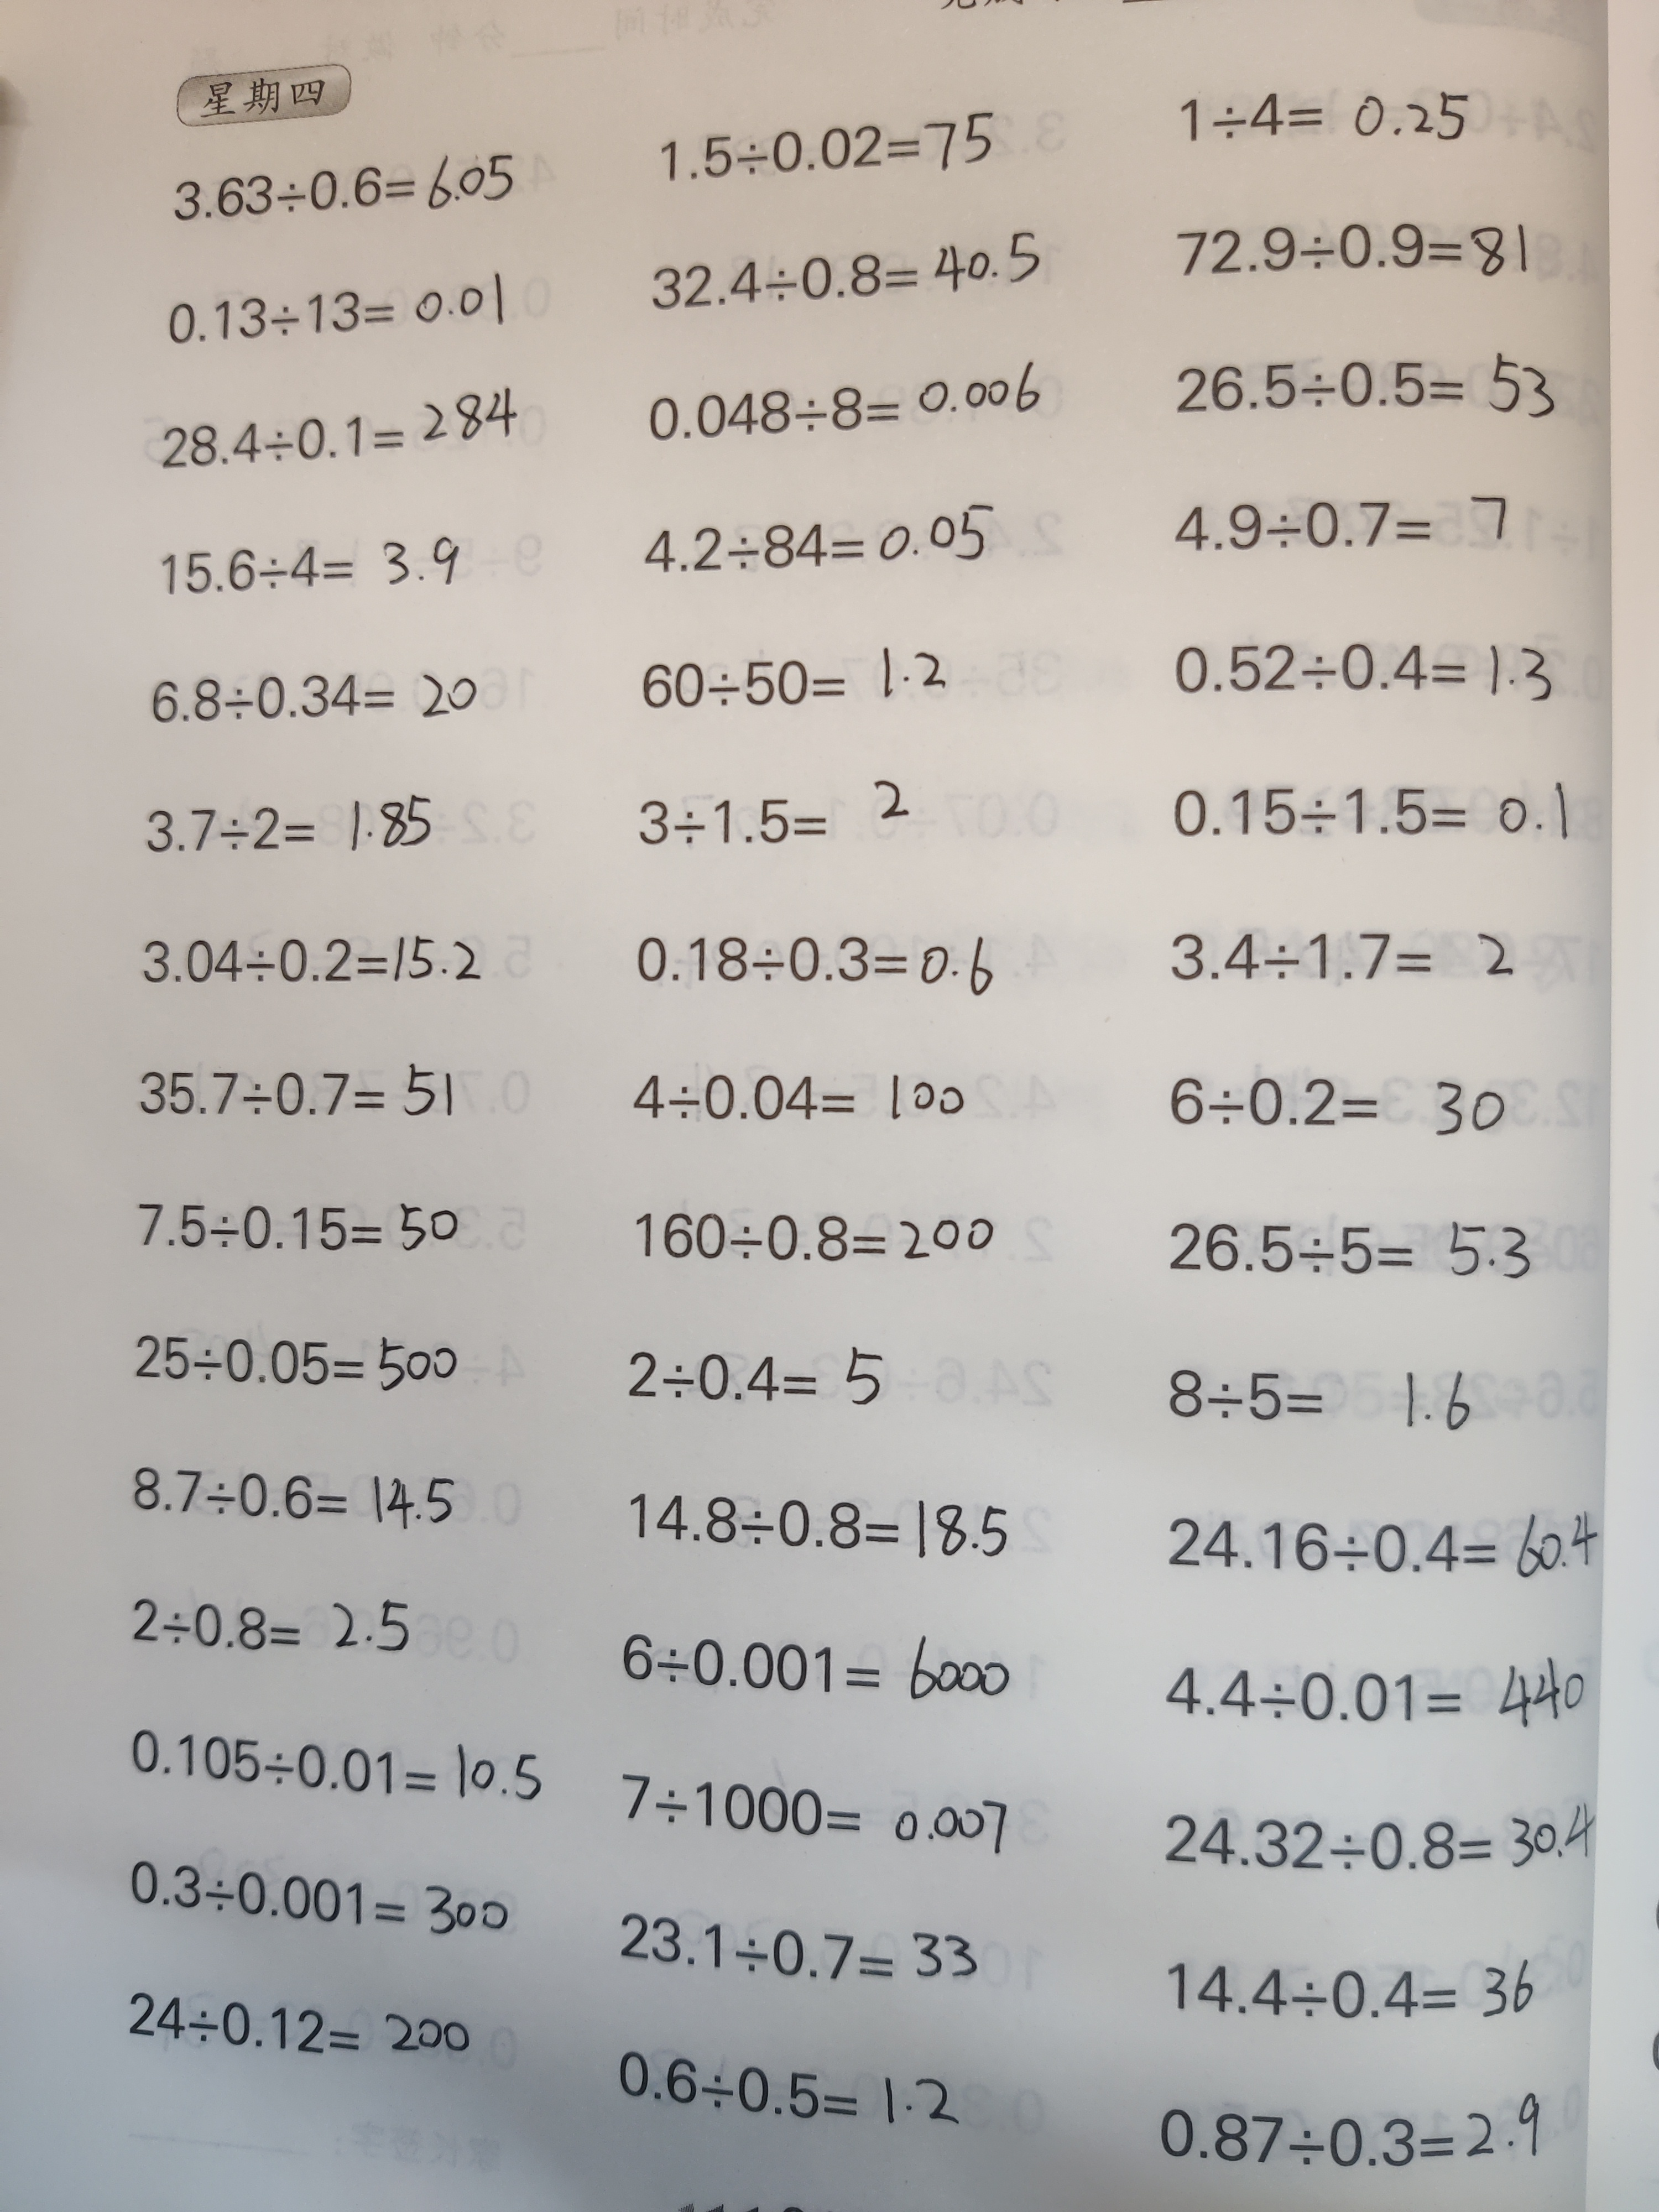equation: (1152, 1789, 1600, 1904), (603, 1763, 1019, 1881), (106, 1707, 556, 1813), (606, 1606, 1025, 1719), (615, 1468, 1023, 1581), (615, 1170, 1009, 1287), (1161, 766, 1591, 873), (605, 2022, 978, 2144), (1152, 1045, 1523, 1163), (1161, 1935, 1544, 2048), (624, 503, 1012, 615), (1155, 1503, 1605, 1599), (1145, 2081, 1549, 2186), (615, 352, 1054, 448), (612, 1900, 997, 2008), (1152, 1644, 1598, 1737), (633, 221, 1061, 317), (1155, 469, 1535, 577), (1157, 1197, 1549, 1301), (125, 1841, 518, 1946), (1162, 340, 1579, 437), (1141, 1348, 1509, 1454), (132, 380, 525, 479), (1136, 625, 1568, 714), (120, 904, 498, 1005), (1155, 207, 1551, 303), (617, 1045, 983, 1144), (150, 132, 535, 226), (112, 1972, 481, 2069), (110, 1442, 465, 1543), (106, 1038, 467, 1136), (631, 763, 929, 878), (141, 272, 525, 361), (125, 1177, 472, 1275), (101, 1568, 427, 1670), (631, 923, 1006, 1012), (1161, 914, 1523, 1003), (120, 1317, 467, 1409), (652, 99, 1009, 188), (118, 770, 448, 866), (587, 1329, 896, 1428), (148, 524, 479, 615), (617, 634, 967, 719), (145, 657, 484, 738), (1169, 71, 1490, 157)
